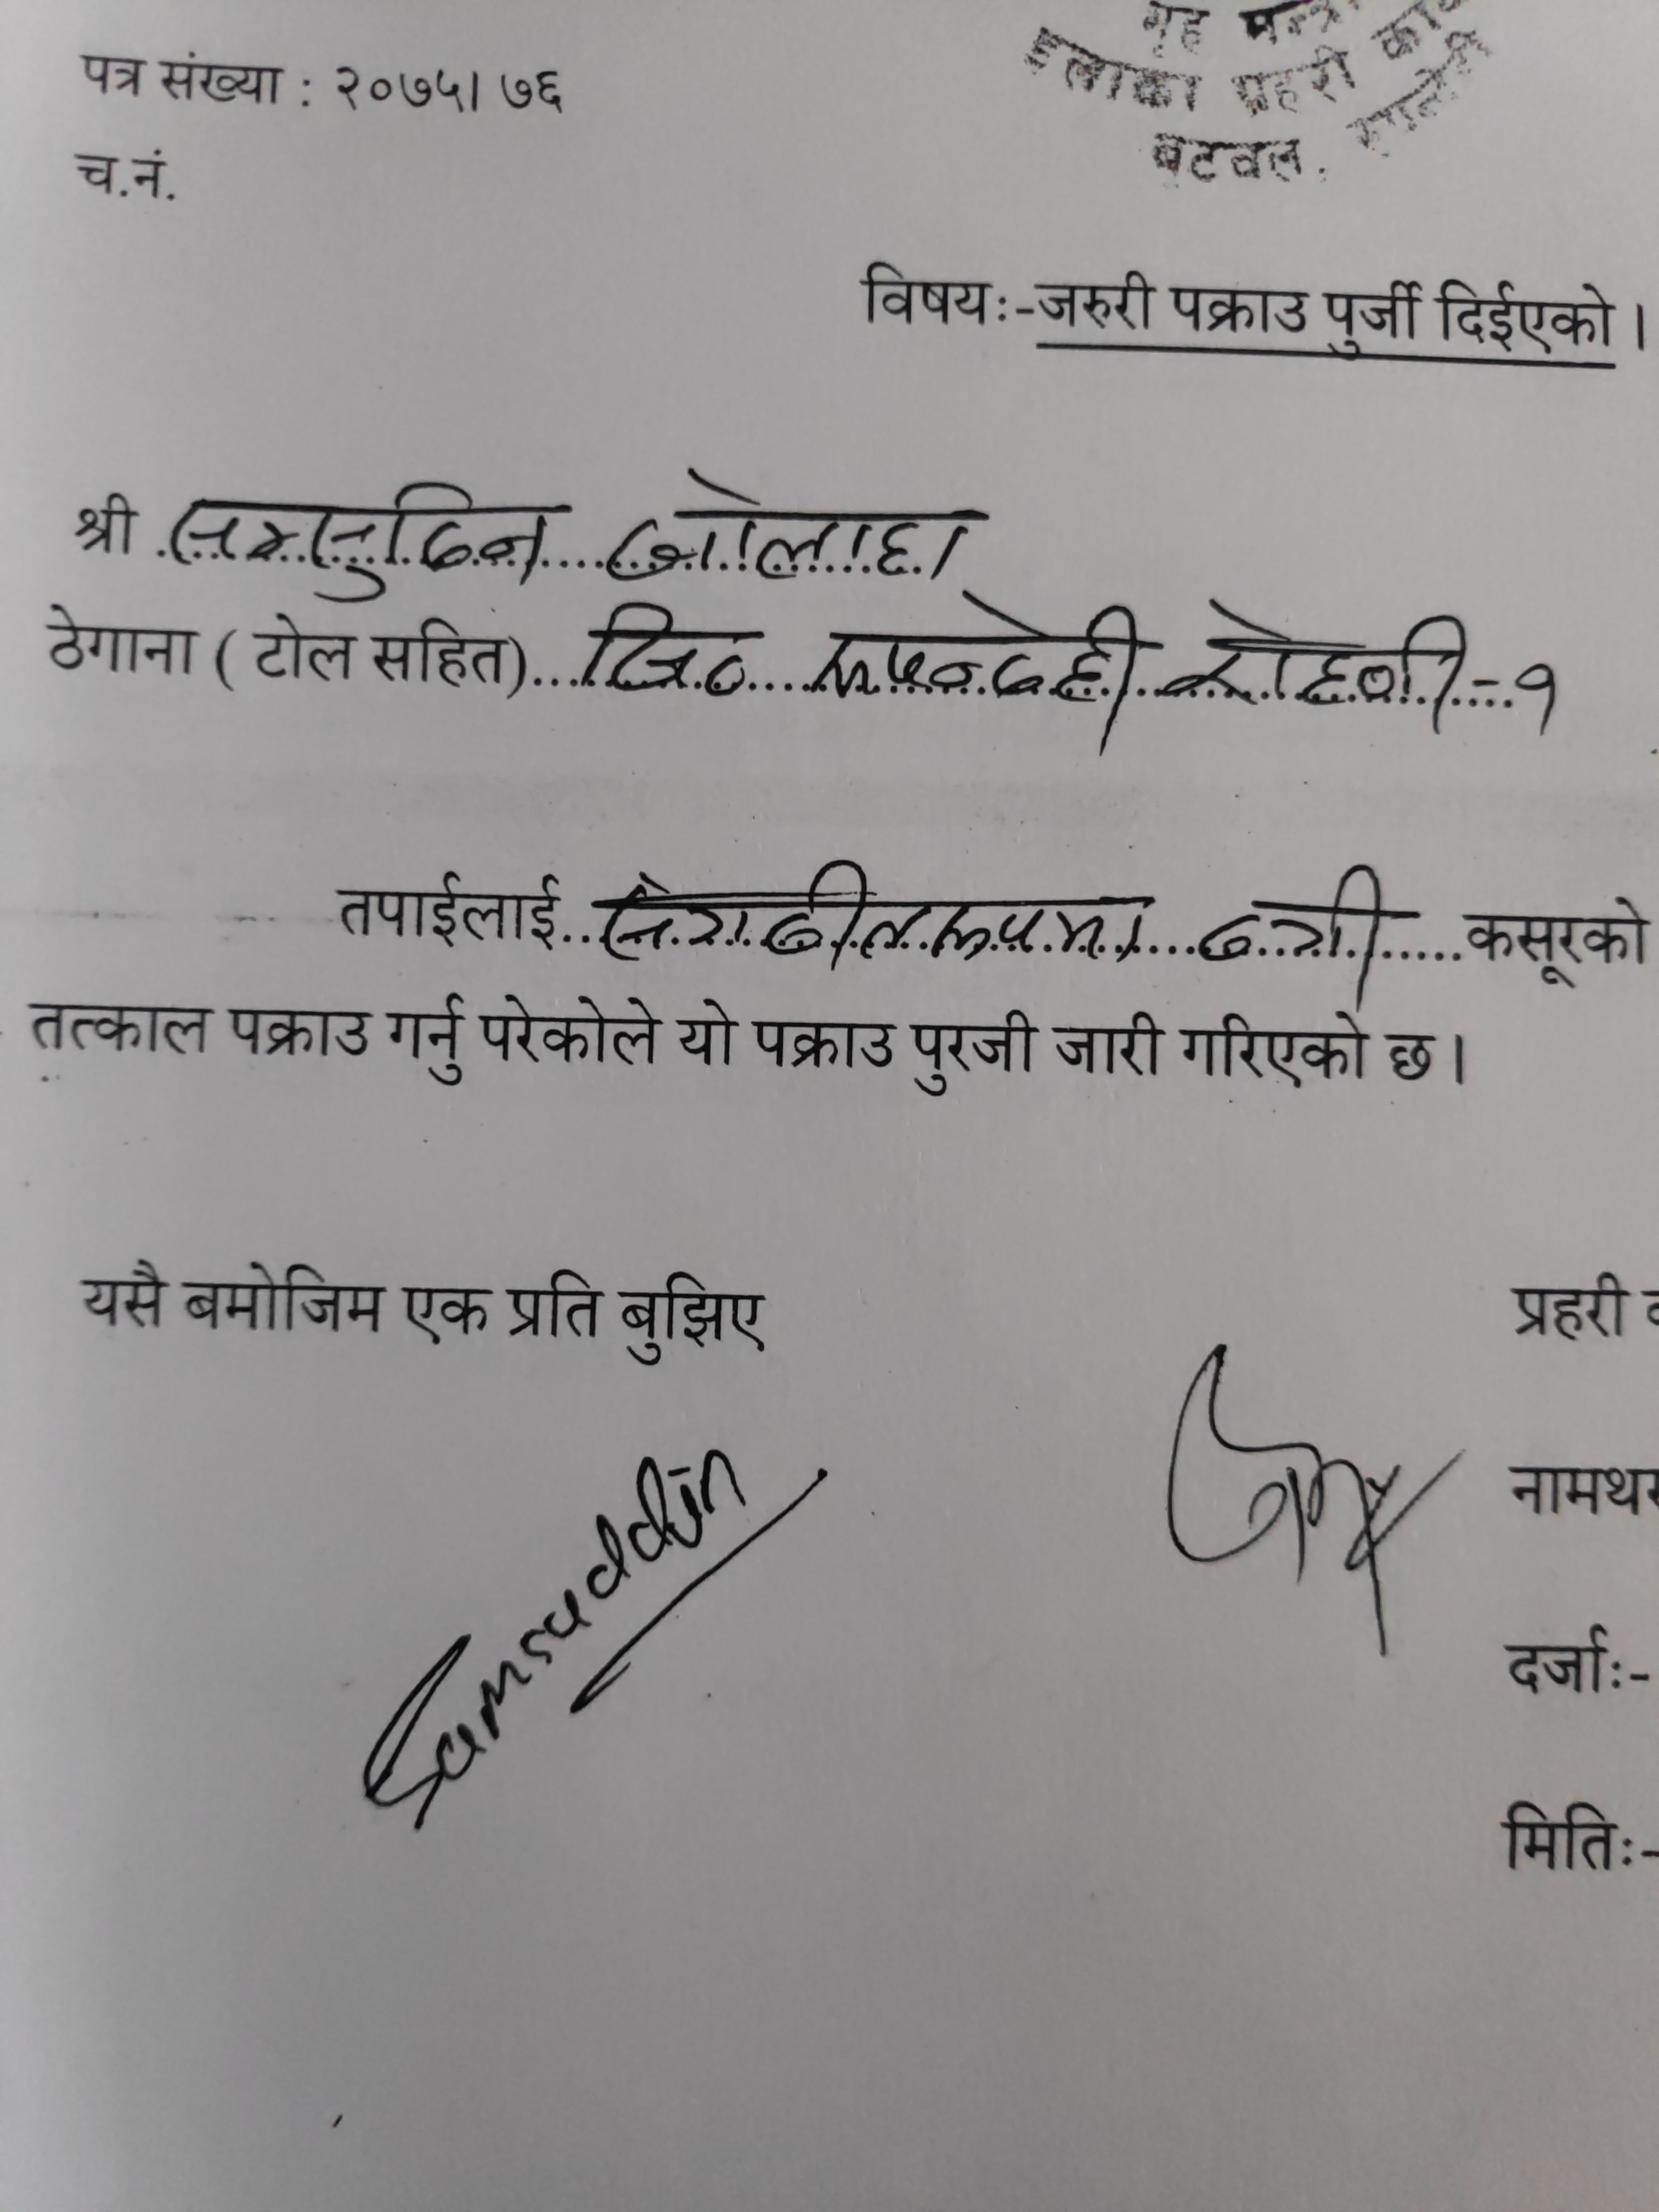text: (589, 848, 1159, 972), (807, 590, 1147, 752), (164, 477, 554, 611), (599, 467, 983, 594), (1164, 587, 1473, 744), (1192, 862, 1394, 1005), (579, 597, 769, 707), (1509, 653, 1567, 758)
